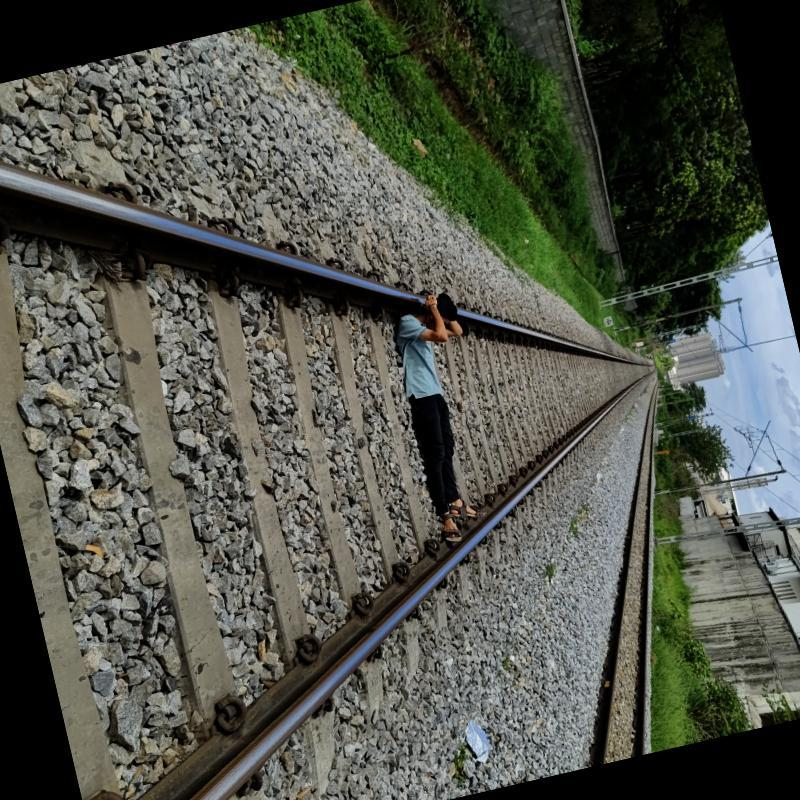sleeping: (378, 280, 517, 554)
